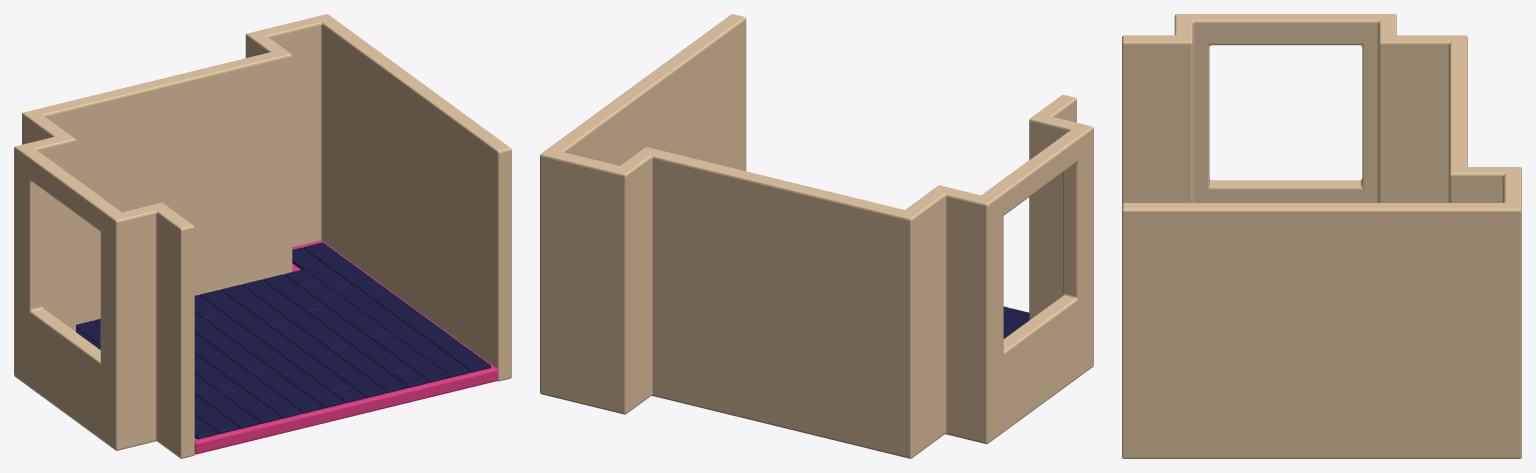
The picture shows the model from 3 angles, left to right: view 1: azimuth 30°, elevation 25°; view 2: azimuth 150°, elevation 25°; view 3: azimuth 270°, elevation 25°; orthographic projection. The views are drawn at different scales.
Parts seen in each view (by area): view 1: Scene; view 2: Scene; view 3: Scene.
Part boxes in pixels (x1,y1,x2,y2): Scene: [14, 14, 511, 458]; Scene: [540, 14, 1093, 458]; Scene: [1122, 14, 1521, 458].
Bounding box in the file's own units: 1382 × 819 × 1188.
